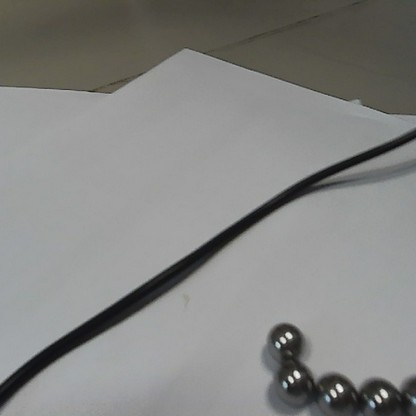ironball: (311, 369, 361, 414), (269, 354, 315, 401), (261, 318, 303, 363), (354, 376, 401, 414), (392, 369, 414, 414)
